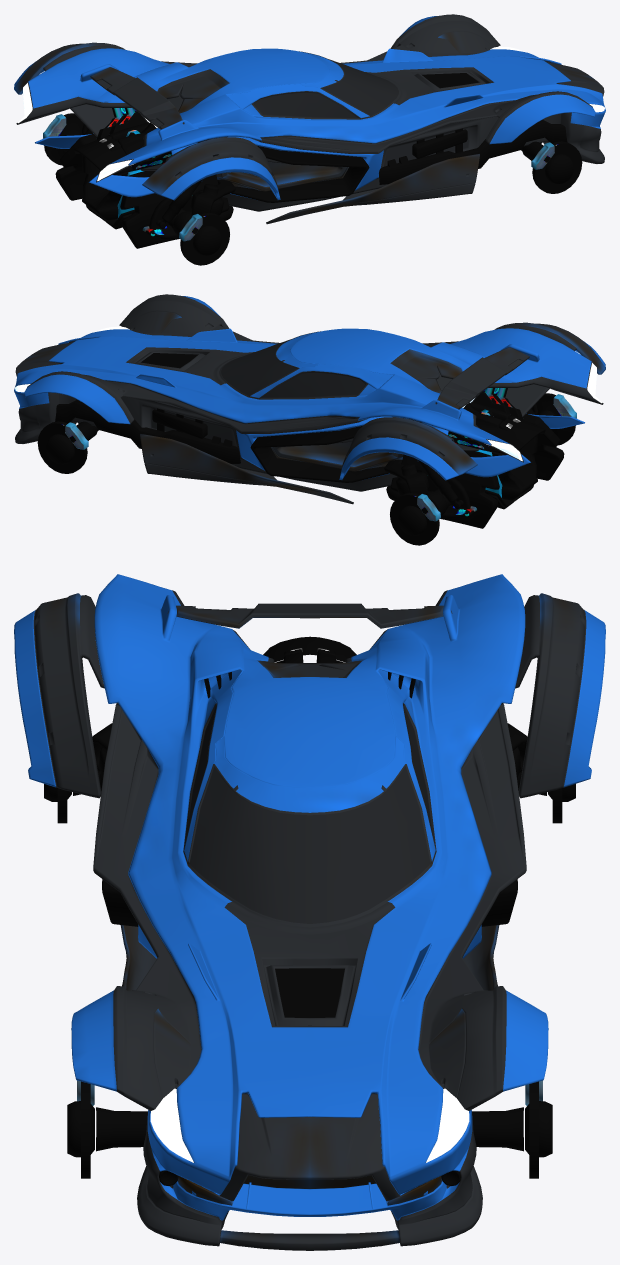
Rendered from sentinel_plank_painted.glb.
The picture shows the model from 3 angles, top to bottom: view 1: azimuth 30°, elevation 25°; view 2: azimuth 150°, elevation 25°; view 3: azimuth 270°, elevation 25°; orthographic projection. The views are drawn at different scales.
Parts seen in each view (by area): view 1: body-shell, lower-detail, lamps; view 2: body-shell, lower-detail, lamps; view 3: body-shell, lower-detail, lamps.
Part boxes in pixels (left/top/right/bottom): body-shell: left=14, top=14, right=605, bottom=224; lower-detail: left=43, top=73, right=582, bottom=265; lamps: left=18, top=46, right=604, bottom=181; body-shell: left=14, top=294, right=605, bottom=504; lower-detail: left=37, top=353, right=576, bottom=545; lamps: left=15, top=326, right=601, bottom=461; body-shell: left=14, top=574, right=605, bottom=1250; lower-detail: left=44, top=636, right=575, bottom=1185; lamps: left=150, top=1088, right=469, bottom=1162.
Bounding box in the file's own units: 166 × 43.75 × 87.47.
3 materials, 2 textured.
